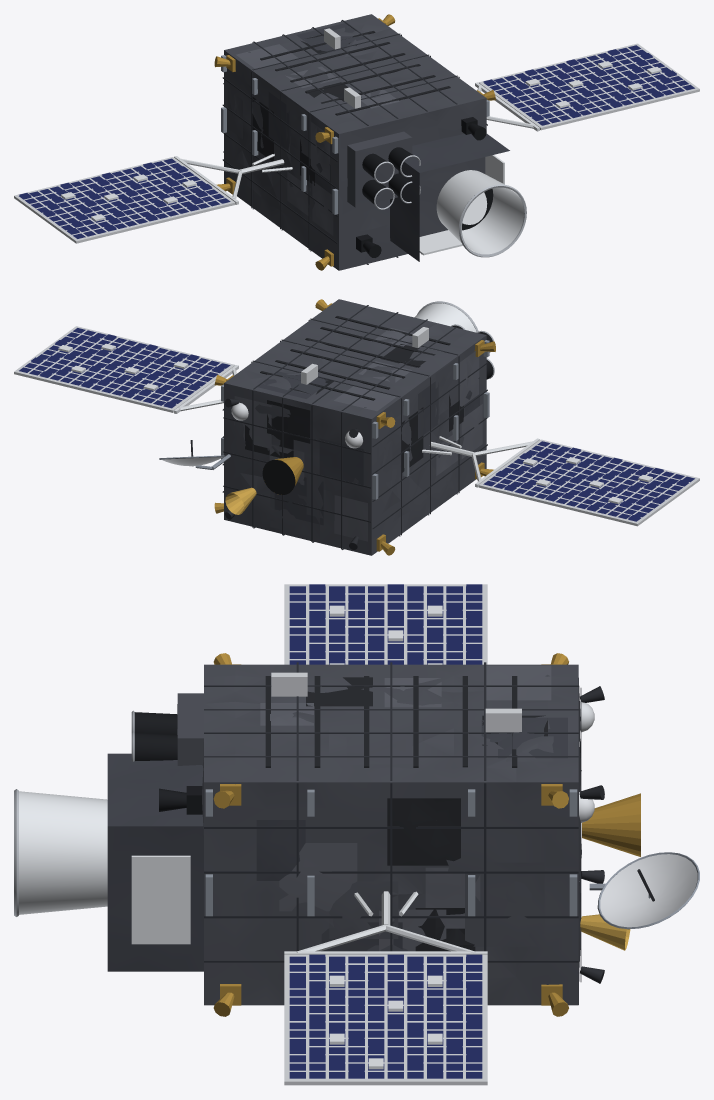
The model's file is mtg-i.glb.
3 views of the same model, one above another, from view 1: azimuth 30°, elevation 25°; view 2: azimuth 150°, elevation 25°; view 3: azimuth 270°, elevation 25° (orthographic). The views are drawn at different scales.
Parts seen in each view (by area): view 1: foil, body, solar-panel; view 2: foil, body, solar-panel; view 3: foil, body, solar-panel.
Boxes of the visible parts, x1,y1,x2,y2 form: foil: (214,14,509,270); body: (14,28,699,257); solar-panel: (19,45,694,238); foil: (214,299,495,555); body: (14,301,699,549); solar-panel: (19,328,694,521); foil: (107,653,640,1016); body: (14,584,699,1085); solar-panel: (289,584,482,1078).
Size of the model in its own units: 10.98 by 2.74 by 6.4.
